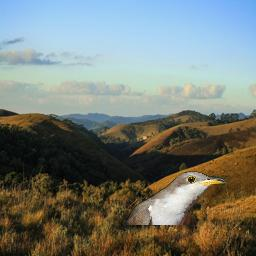Cuckoo: (126, 171, 226, 225)
